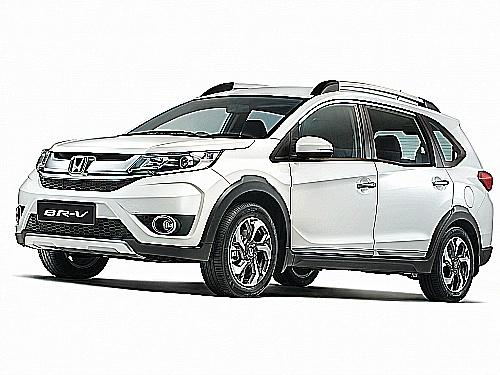Car hood: (46, 134, 256, 151)
Fender - -F-L-: (212, 138, 291, 223)
Fender - -R-L-: (432, 107, 488, 226)
Front bumper: (13, 167, 231, 266)
Headlight - -L-: (124, 148, 221, 175)
Passenger-s door - -F-L-: (290, 83, 379, 277)
Passenger-s door - -R-L-: (365, 82, 455, 282)
Rear bumper: (476, 192, 494, 273)
Rear light - -L-: (477, 167, 495, 193)
Side bumper - -L-: (285, 242, 433, 282)
Side mirror - -L-: (288, 137, 334, 165)
